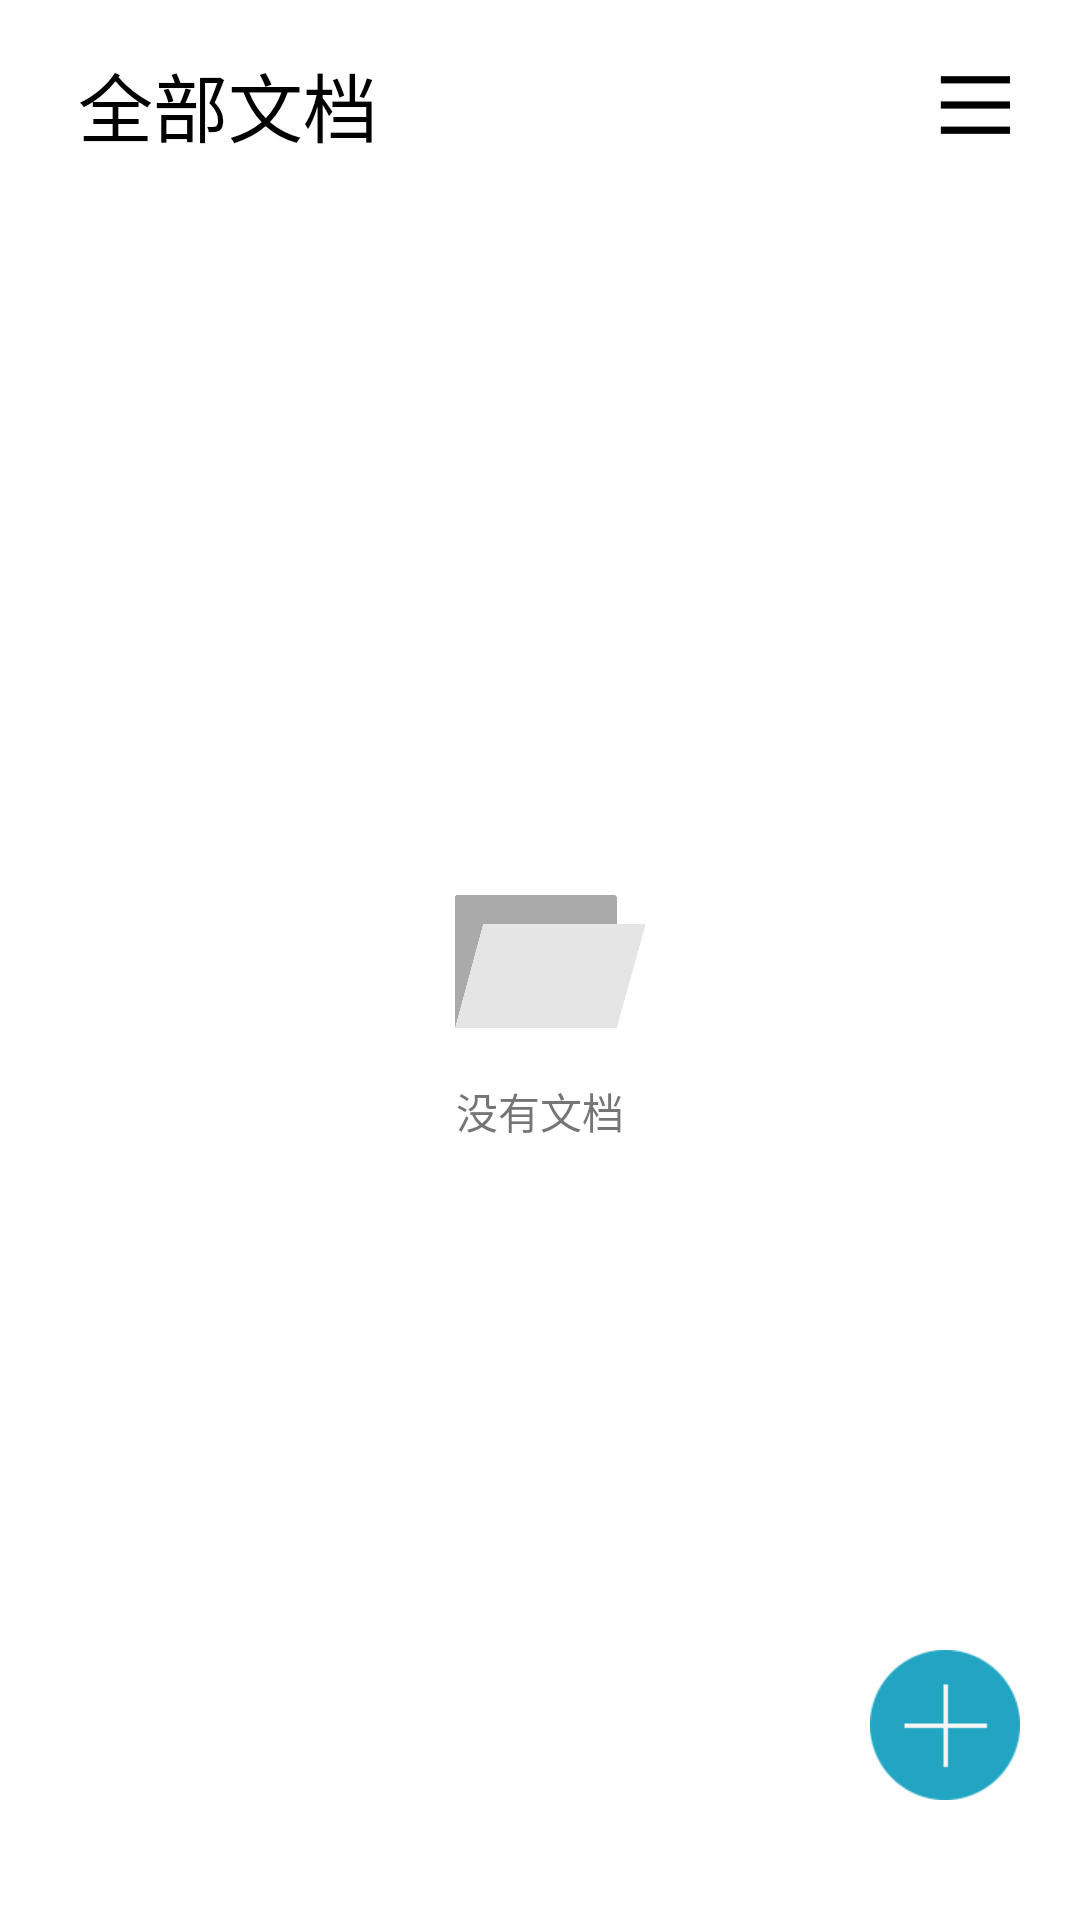

Icons on this 1080w x 1920h Android screen, each with its box as (x1, y1, x2, y2):
file: (455, 895, 645, 1028)
